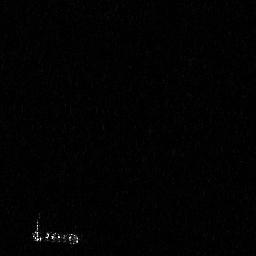ship: (30, 211, 82, 248)
